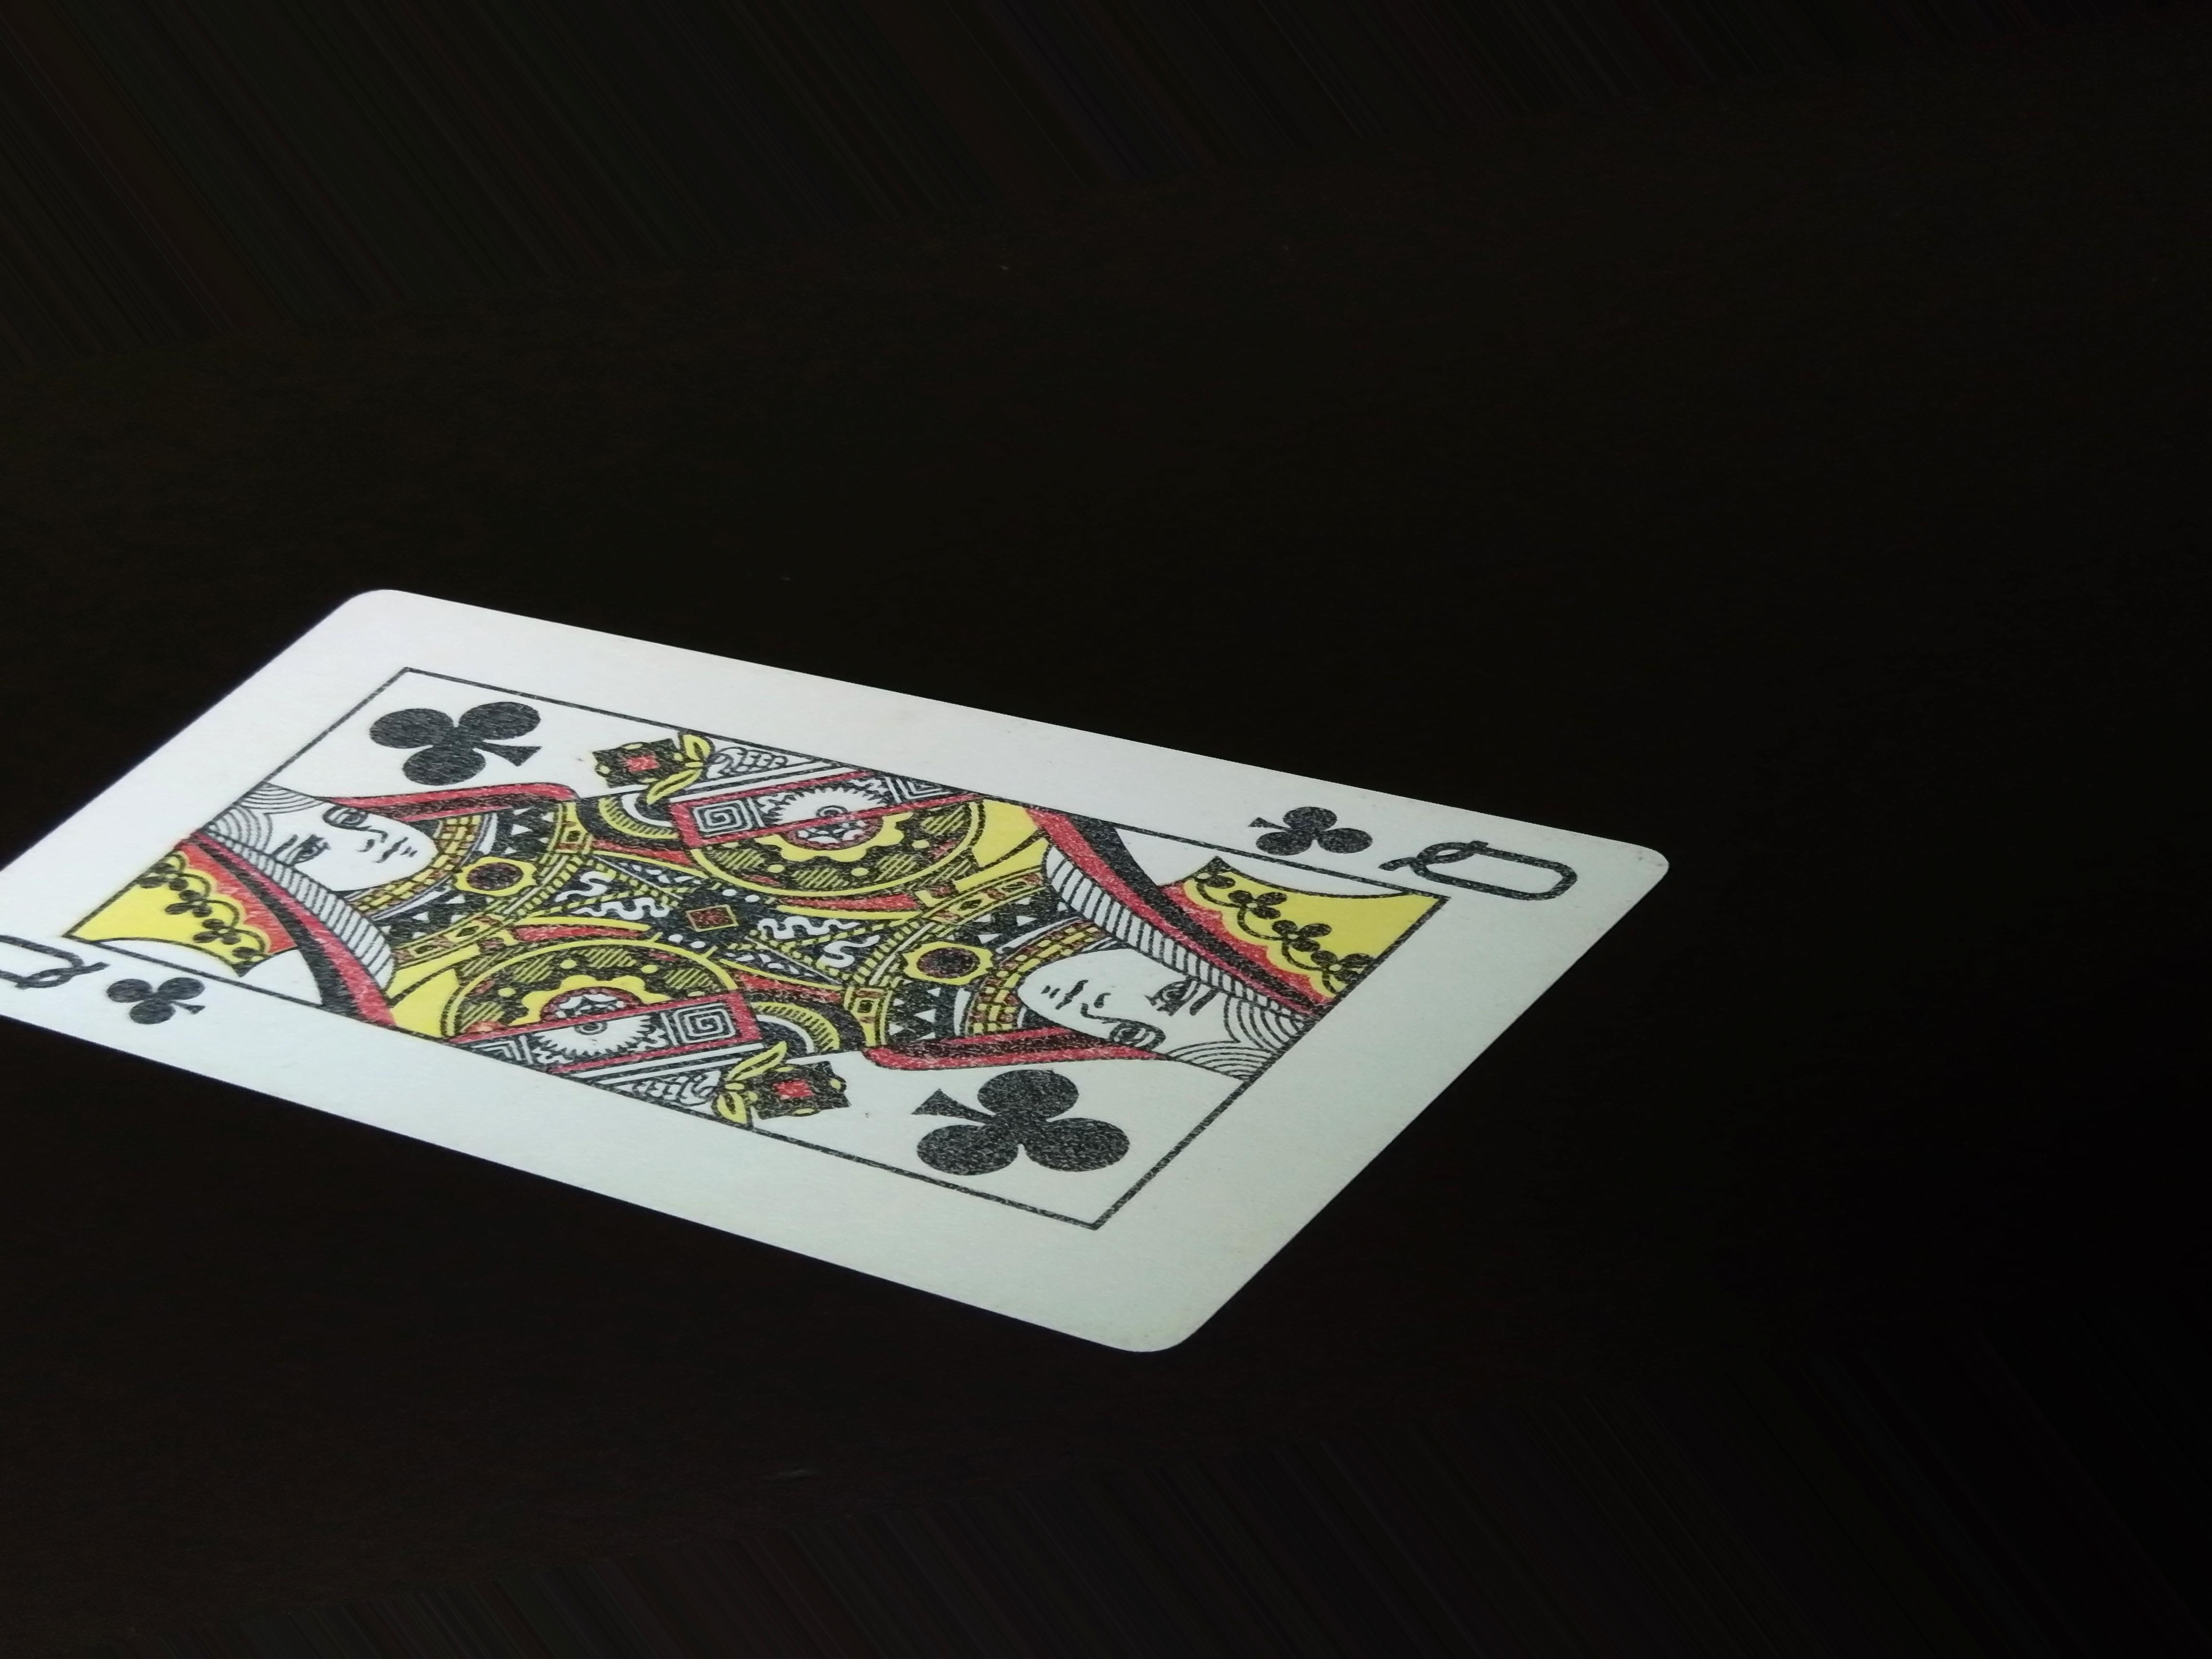QC: (1240, 772, 1571, 911)
